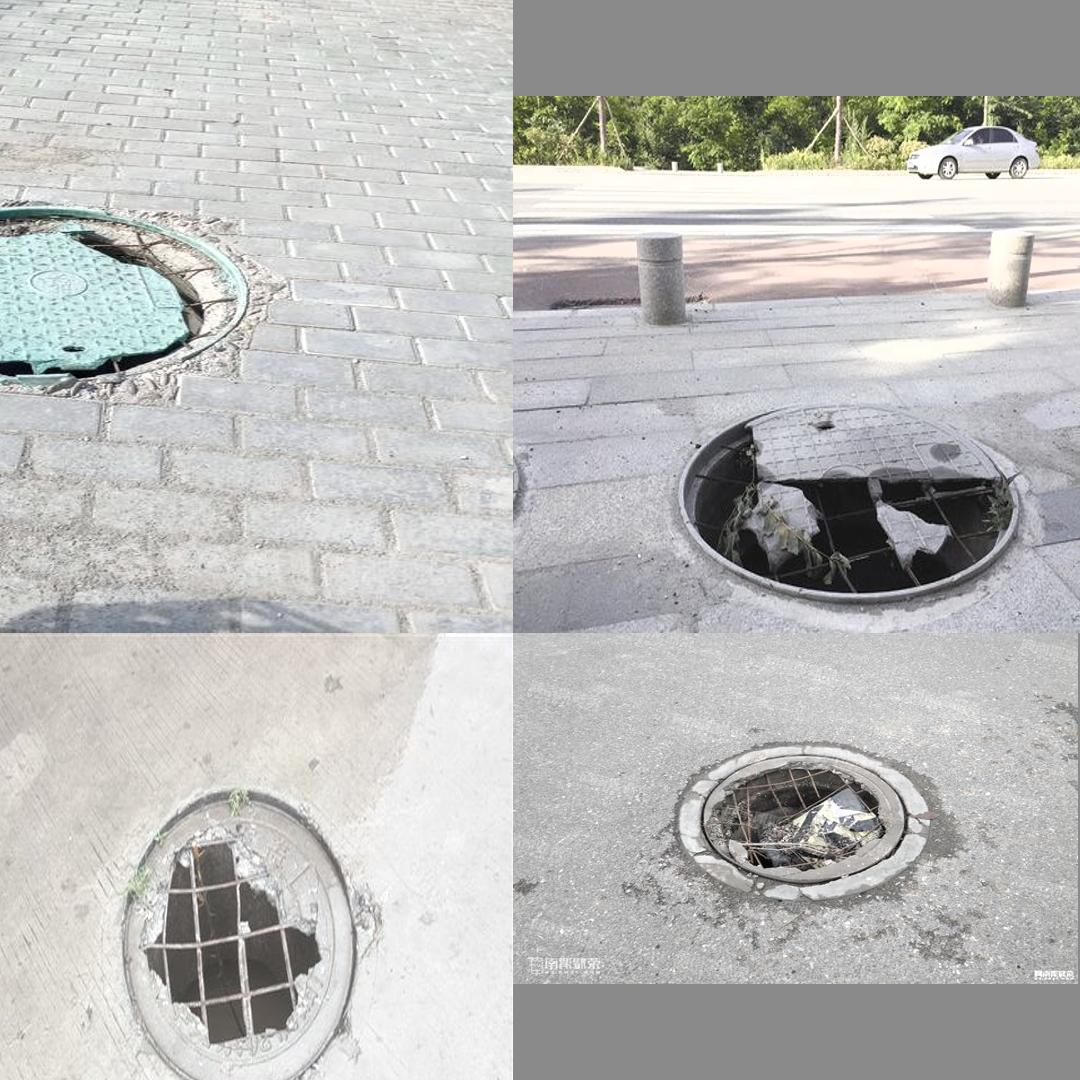broke: (664, 363, 1030, 620), (95, 766, 391, 1080), (0, 201, 288, 393), (666, 734, 937, 901)
